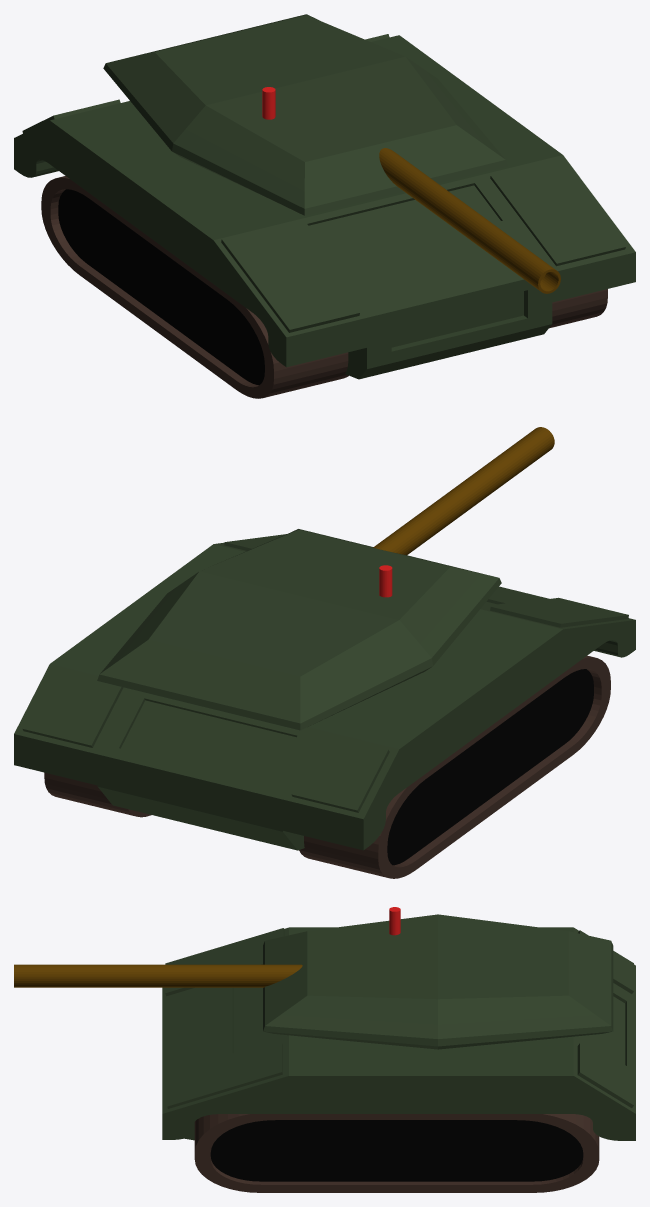
Rendered from Tank.fbx.
The picture shows the model from 3 angles, top to bottom: view 1: azimuth 30°, elevation 25°; view 2: azimuth 150°, elevation 25°; view 3: azimuth 270°, elevation 25°; orthographic projection. The views are drawn at different scales.
Visible parts, largest first — view 1: Cube, Cube.003, Cube.002, Cylinder; view 2: Cube, Cube.003, Cube.002, Cylinder; view 3: Cube, Cube.003, Cube.002, Cylinder.
Boxes of the visible parts, left/top/right/bottom form: Cube: left=14, top=34, right=635, bottom=379; Cube.003: left=103, top=14, right=507, bottom=215; Cube.002: left=41, top=176, right=607, bottom=398; Cylinder: left=379, top=148, right=560, bottom=293; Cube: left=14, top=534, right=635, bottom=850; Cube.003: left=97, top=529, right=501, bottom=730; Cube.002: left=44, top=655, right=610, bottom=878; Cylinder: left=373, top=427, right=554, bottom=555; Cube: left=162, top=927, right=635, bottom=1140; Cube.003: left=263, top=914, right=613, bottom=1049; Cube.002: left=194, top=1114, right=599, bottom=1192; Cylinder: left=14, top=964, right=302, bottom=987.
Bounding box in the file's own units: 466 × 276 × 826.
